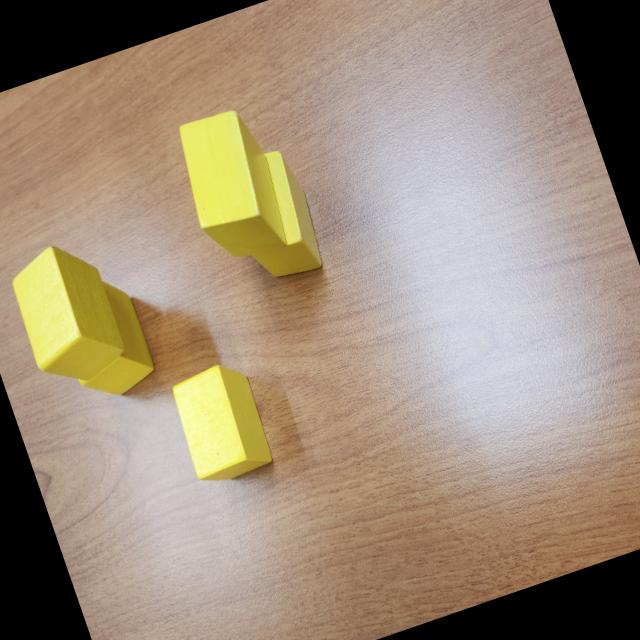yellow: (2, 232, 132, 394), (168, 104, 293, 270), (163, 356, 279, 491), (50, 272, 162, 408), (222, 146, 329, 286)
